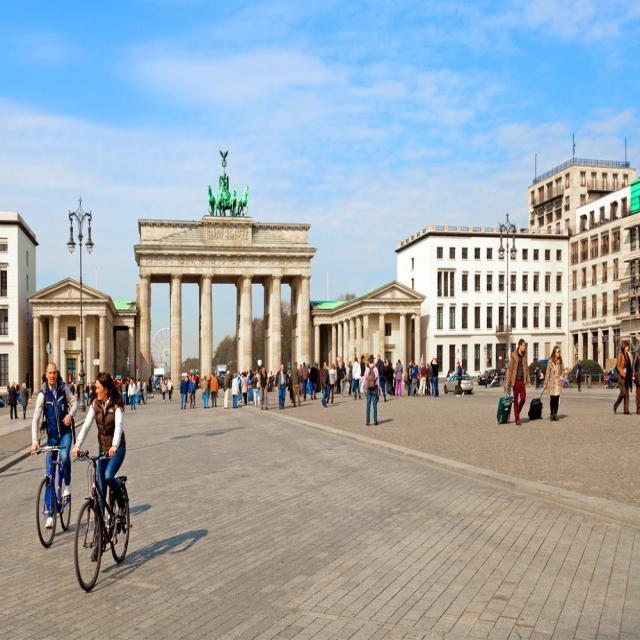body: (52, 488, 212, 576), (70, 368, 130, 562), (383, 353, 615, 400), (29, 360, 80, 530), (151, 359, 323, 401), (504, 338, 532, 426), (541, 342, 566, 421), (88, 375, 146, 405), (612, 339, 633, 416), (362, 350, 380, 426), (273, 362, 289, 410), (374, 352, 388, 403), (288, 359, 301, 407), (631, 349, 640, 415), (318, 359, 329, 409), (258, 364, 269, 410), (326, 362, 337, 406), (351, 355, 362, 399), (308, 360, 319, 402), (19, 380, 30, 420), (126, 375, 138, 410), (430, 356, 440, 398), (300, 360, 310, 401), (8, 379, 18, 419), (394, 357, 404, 397), (358, 353, 367, 397), (250, 370, 260, 408), (209, 371, 219, 408), (239, 369, 249, 406), (200, 373, 210, 409), (454, 360, 464, 395), (231, 371, 240, 409), (574, 358, 584, 392), (222, 368, 230, 409), (178, 374, 187, 410), (339, 361, 348, 397), (187, 373, 196, 408), (346, 360, 354, 395), (235, 369, 242, 404), (407, 359, 413, 397), (336, 364, 342, 395), (121, 379, 127, 406), (14, 382, 21, 405), (84, 380, 90, 406), (140, 378, 146, 403), (69, 380, 76, 395), (76, 379, 80, 403), (148, 375, 152, 393), (6, 381, 11, 395)
